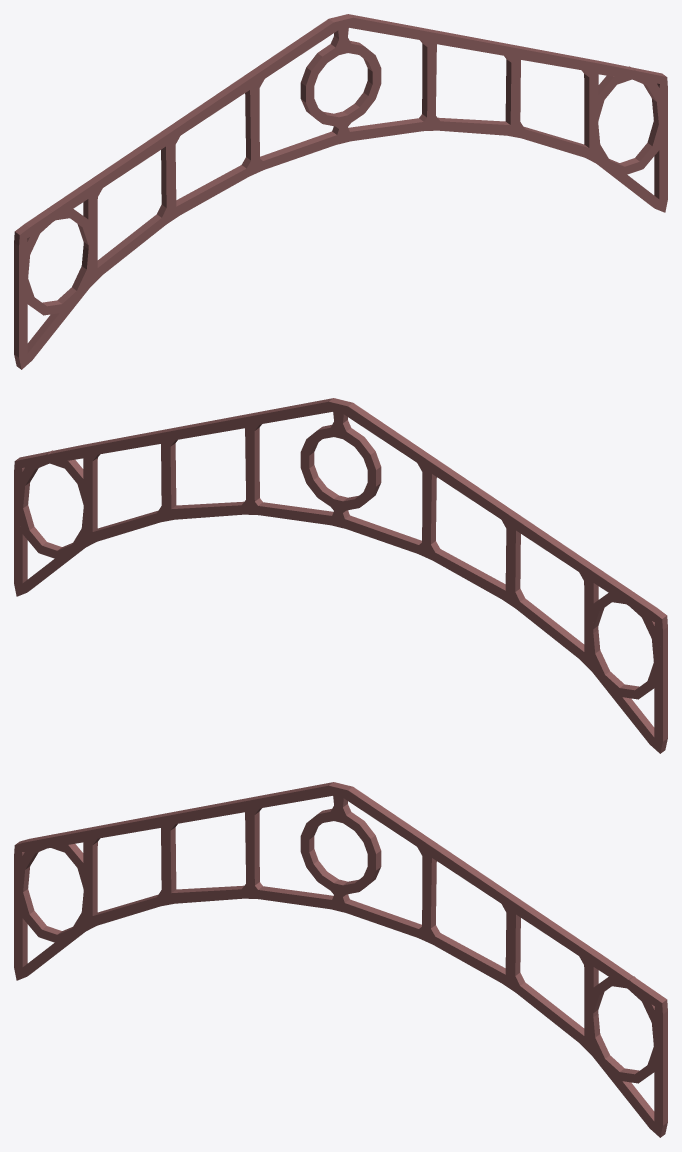
The model's file is WC_RoofDecal.fbx.
The picture shows the model from 3 angles, top to bottom: view 1: azimuth 30°, elevation 25°; view 2: azimuth 150°, elevation 25°; view 3: azimuth 330°, elevation 25°; orthographic projection.
Visible parts, largest first — view 1: WC_RoofDecal; view 2: WC_RoofDecal; view 3: WC_RoofDecal.
Boxes of the visible parts, x1,y1,x2,y2 form: WC_RoofDecal: (14, 14, 667, 369); WC_RoofDecal: (14, 398, 667, 753); WC_RoofDecal: (14, 782, 667, 1137).
Size of the model in its own units: 1156 by 462 by 15.57.
